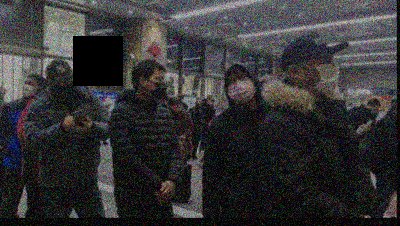with_mask: (303, 52, 339, 94), (225, 72, 255, 102), (48, 77, 76, 99), (147, 72, 167, 99), (21, 77, 36, 95), (369, 105, 379, 114), (214, 109, 221, 116), (208, 97, 214, 105)
without_mask: (173, 101, 182, 111)
